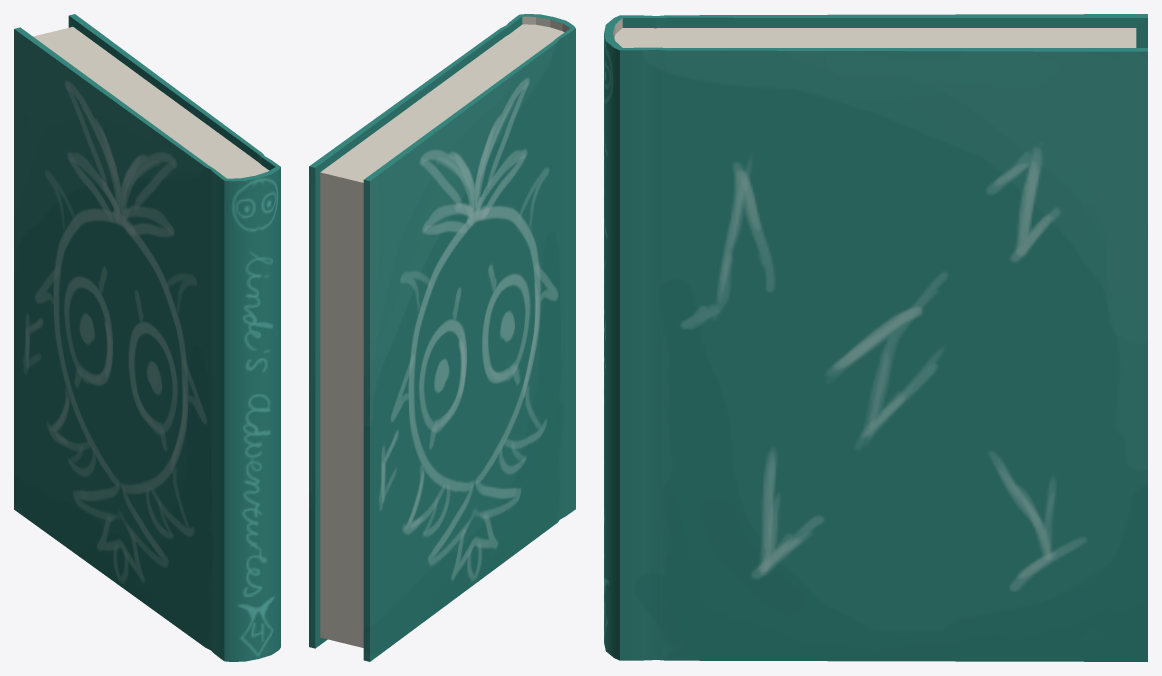
File: Book_Thin.fbx
3 renders of one model, left to right at view 1: azimuth 30°, elevation 25°; view 2: azimuth 150°, elevation 25°; view 3: azimuth 270°, elevation 25°, orthographic. The views are drawn at different scales.
Parts seen in each view (by area): view 1: book2; view 2: book2; view 3: book2.
Boxes of the visible parts, bbox=[...] form: book2: bbox=[14, 14, 280, 661]; book2: bbox=[309, 14, 575, 661]; book2: bbox=[604, 14, 1147, 661].
Size of the model in its own units: 52.46 by 395 by 319.
